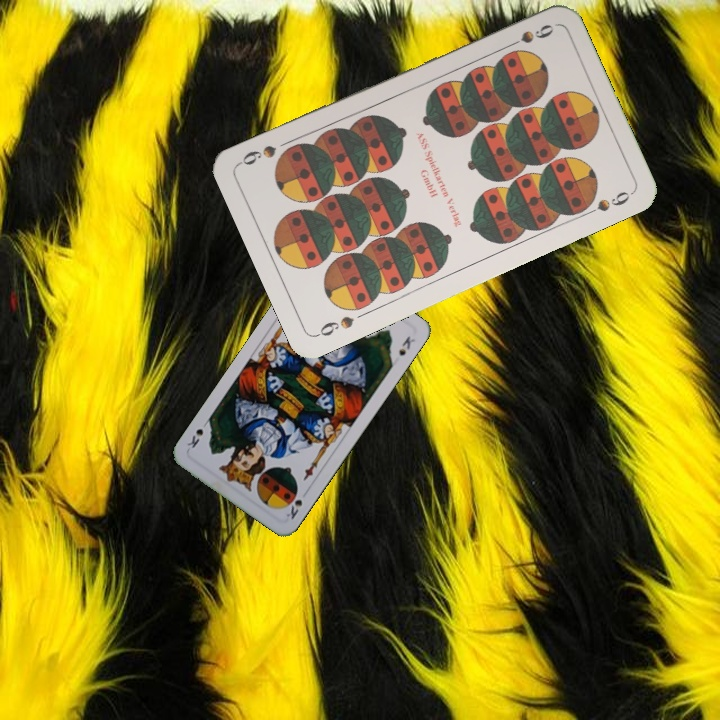S9: (501, 20, 556, 52), (312, 311, 357, 340)
SK: (282, 488, 305, 522)
